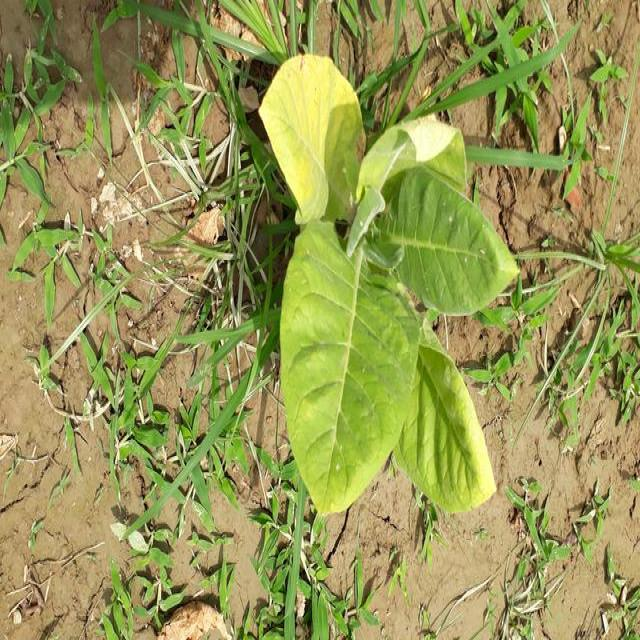crop: (260, 50, 500, 507)
